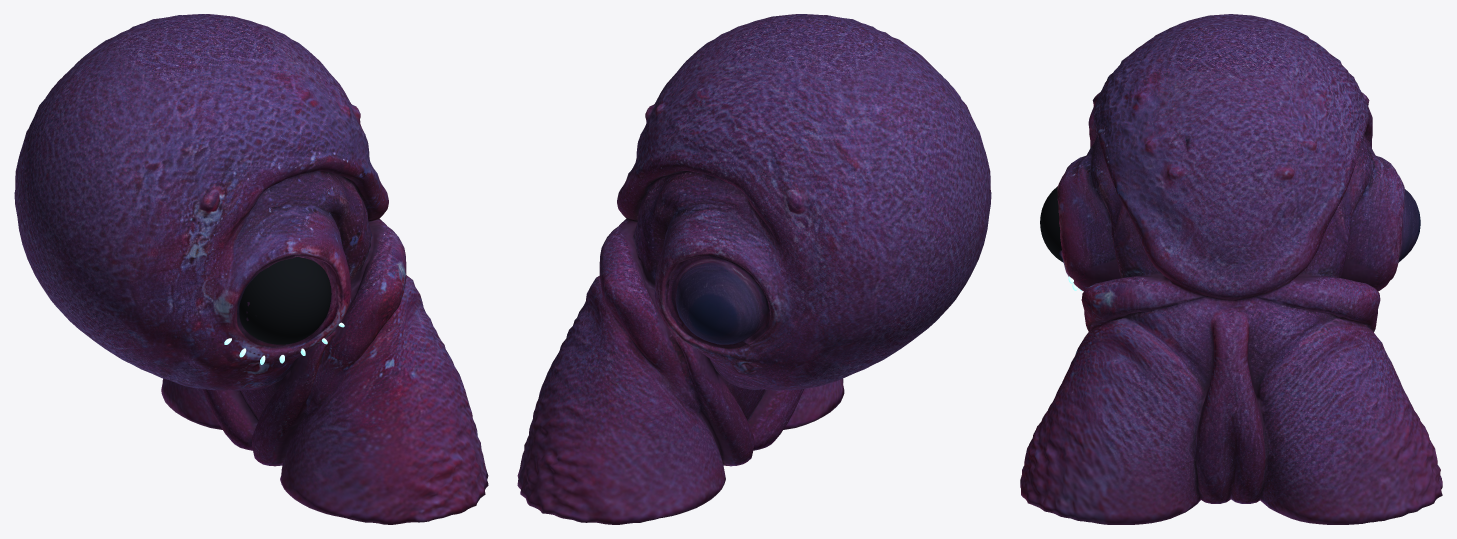
Rendered from abyss_head.glb.
The picture shows the model from 3 angles, left to right: view 1: azimuth 30°, elevation 25°; view 2: azimuth 150°, elevation 25°; view 3: azimuth 270°, elevation 25°; orthographic projection. The views are drawn at different scales.
Parts seen in each view (by area): view 1: head, eye_L; view 2: head; view 3: head, eye_L.
Part boxes in pixels (x1=…): head: x1=14, y1=14, x2=488, y2=524; eye_L: x1=239, y1=257, x2=331, y2=344; head: x1=517, y1=14, x2=991, y2=524; head: x1=1020, y1=14, x2=1442, y2=524; eye_L: x1=1040, y1=186, x2=1062, y2=261.
Bounding box in the file's own units: 1.01 × 1.12 × 1.08.
Materials: 3 (1 with a texture image).
